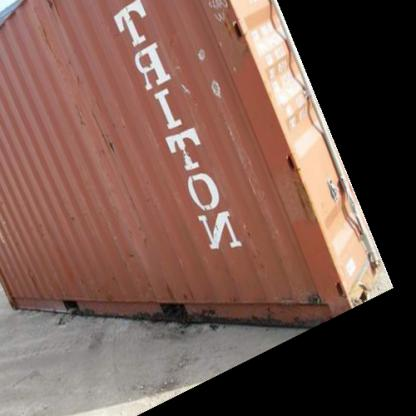Damage: (246, 284, 324, 326), (94, 101, 126, 163), (196, 38, 222, 106), (25, 19, 60, 67), (148, 284, 194, 306)
